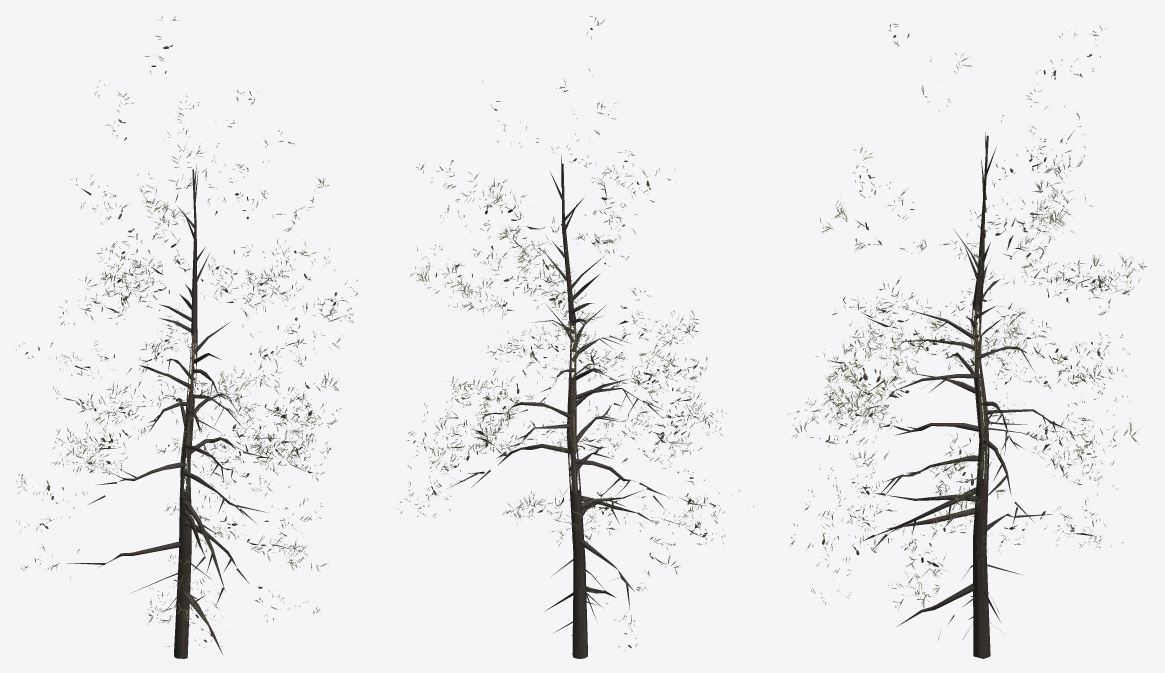
File: pine-sapling-medium.glb
The picture shows the model from 3 angles, left to right: view 1: azimuth 30°, elevation 25°; view 2: azimuth 150°, elevation 25°; view 3: azimuth 270°, elevation 25°; orthographic projection. The views are drawn at different scales.
Visible parts, largest first — view 1: pine_sapling_medium_c_LOD0; view 2: pine_sapling_medium_c_LOD0; view 3: pine_sapling_medium_c_LOD0.
Part boxes in pixels (left/top/right/bottom): pine_sapling_medium_c_LOD0: left=16, top=16, right=357, bottom=658; pine_sapling_medium_c_LOD0: left=398, top=16, right=753, bottom=658; pine_sapling_medium_c_LOD0: left=788, top=22, right=1146, bottom=658.
Bounding box in the file's own units: 3.69 × 6.78 × 3.44.
Materials: 1 (1 with a texture image).
